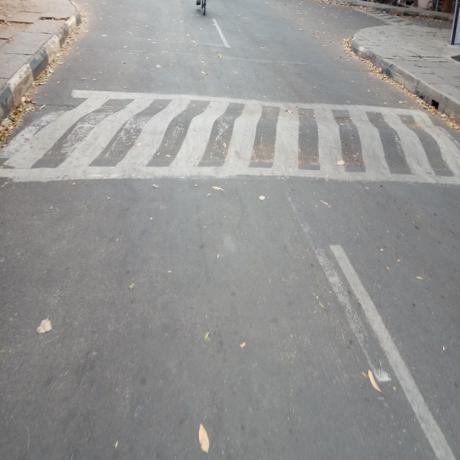Speed Bump: (4, 87, 459, 185)
